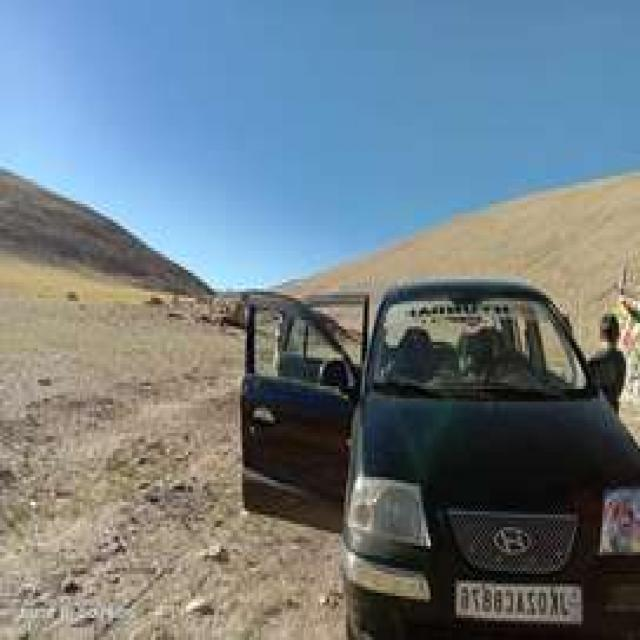license_plate: (448, 572, 588, 634)
